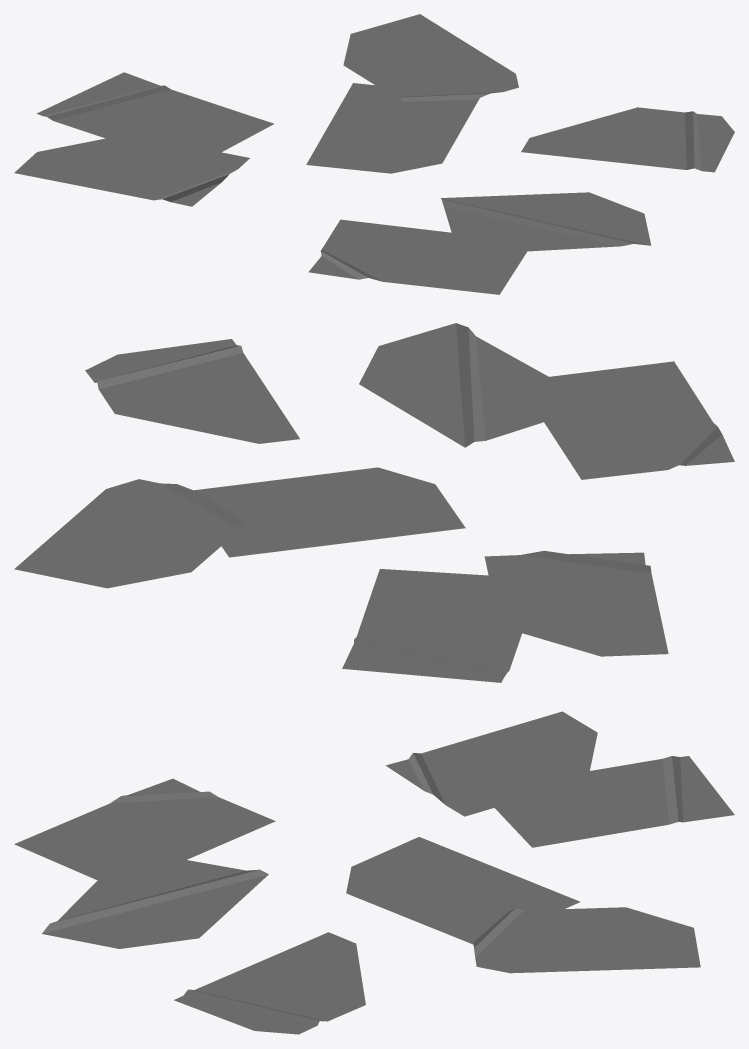
Rendered from SM_Gen_Prop_Papers_01.glb.
3 views of the same model, one above another, from view 1: azimuth 30°, elevation 25°; view 2: azimuth 150°, elevation 25°; view 3: azimuth 270°, elevation 25° (orthographic). The views are drawn at different scales.
Visible parts, largest first — view 1: SM_Gen_Prop_Papers_01; view 2: SM_Gen_Prop_Papers_01; view 3: SM_Gen_Prop_Papers_01.
Part boxes in pixels (x1,y1,x2,y2): SM_Gen_Prop_Papers_01: (14, 14, 734, 294); SM_Gen_Prop_Papers_01: (14, 323, 734, 682); SM_Gen_Prop_Papers_01: (14, 711, 734, 1034).
Size of the model in its own units: 1.15 by 0.00961 by 1.09.
Materials: 1 (1 with a texture image).
